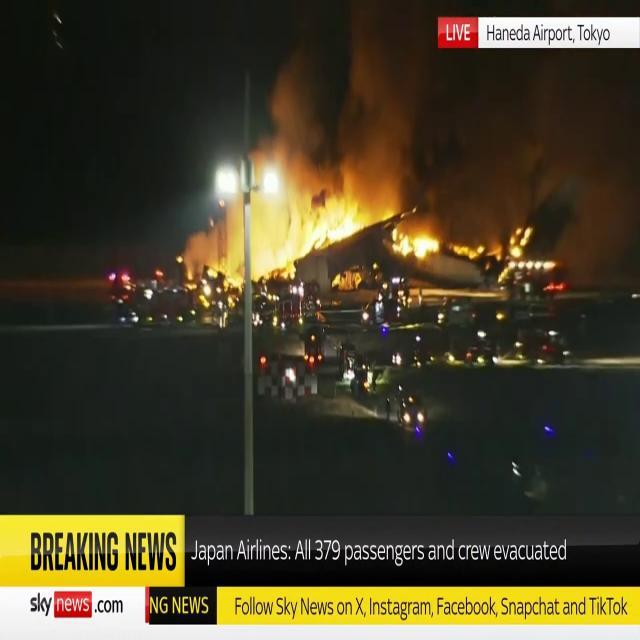Fire: (214, 150, 368, 276), (390, 222, 442, 264)
Smoke: (267, 0, 437, 200)
